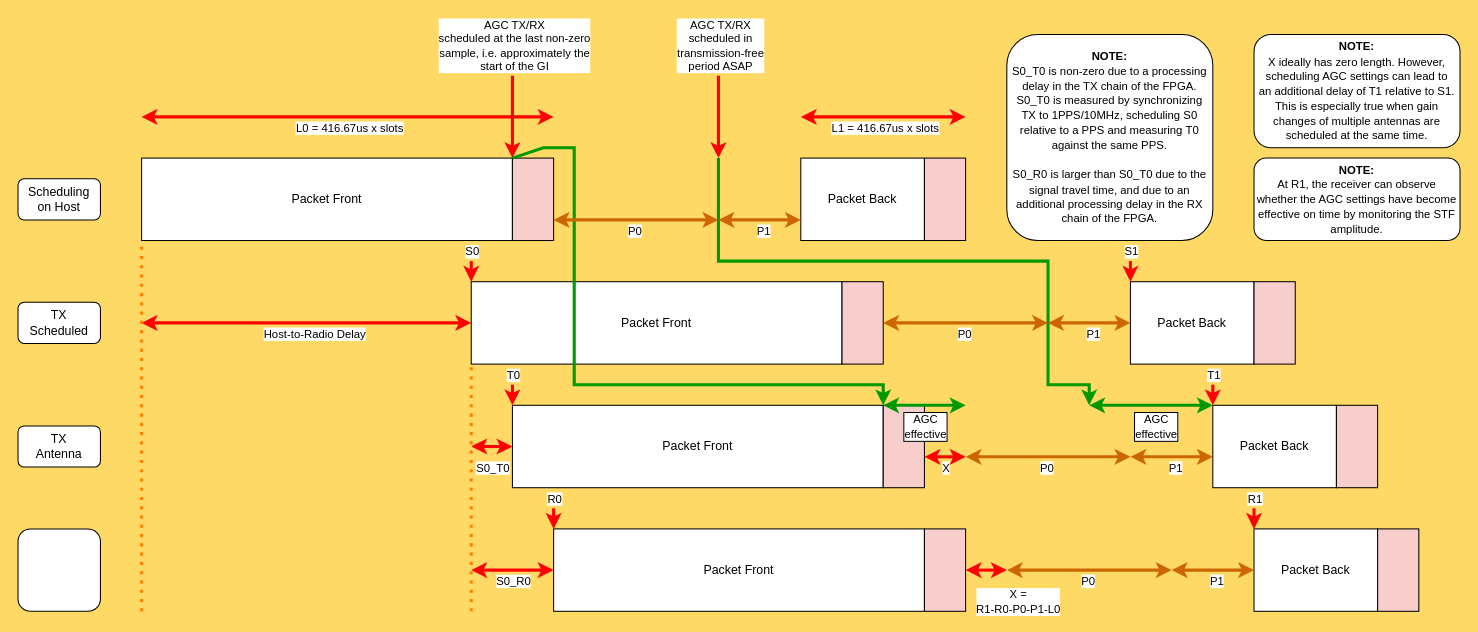
The diagram is 1478 pixels wide and 632 high, and some of its shapes have lost their labels. Here are the shapes that lost their labels. From the top down, the box of each, then its label:
(511, 157, 554, 241): Guard 18.52 20.83 10.42 10.42
(17, 528, 100, 611): RX crosstalk or RX other radio
